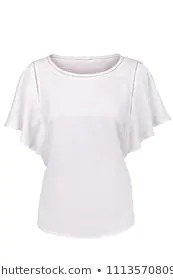S_short blouse: (5, 50, 173, 237)
